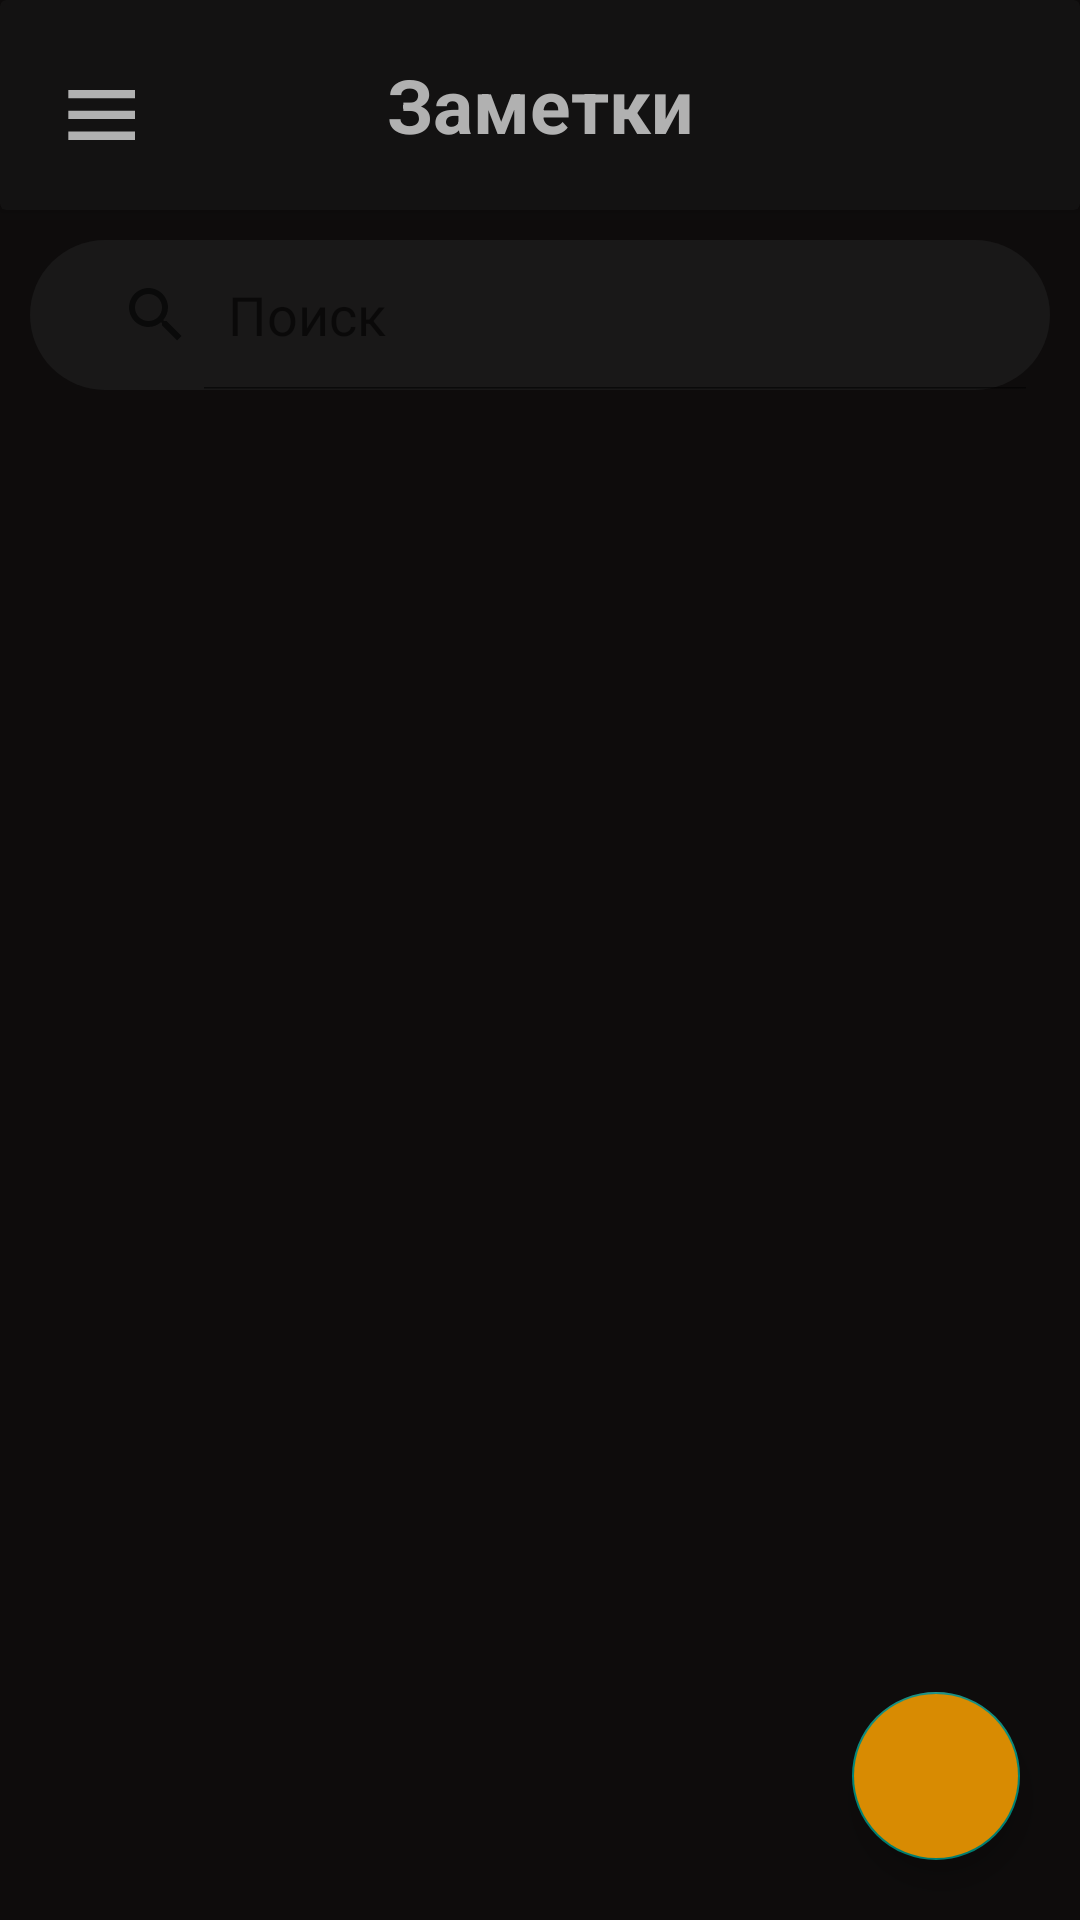

Icons on this 1080*1920 Android screen, each with the point to tap as point (x, y):
burger: point (101, 115)
